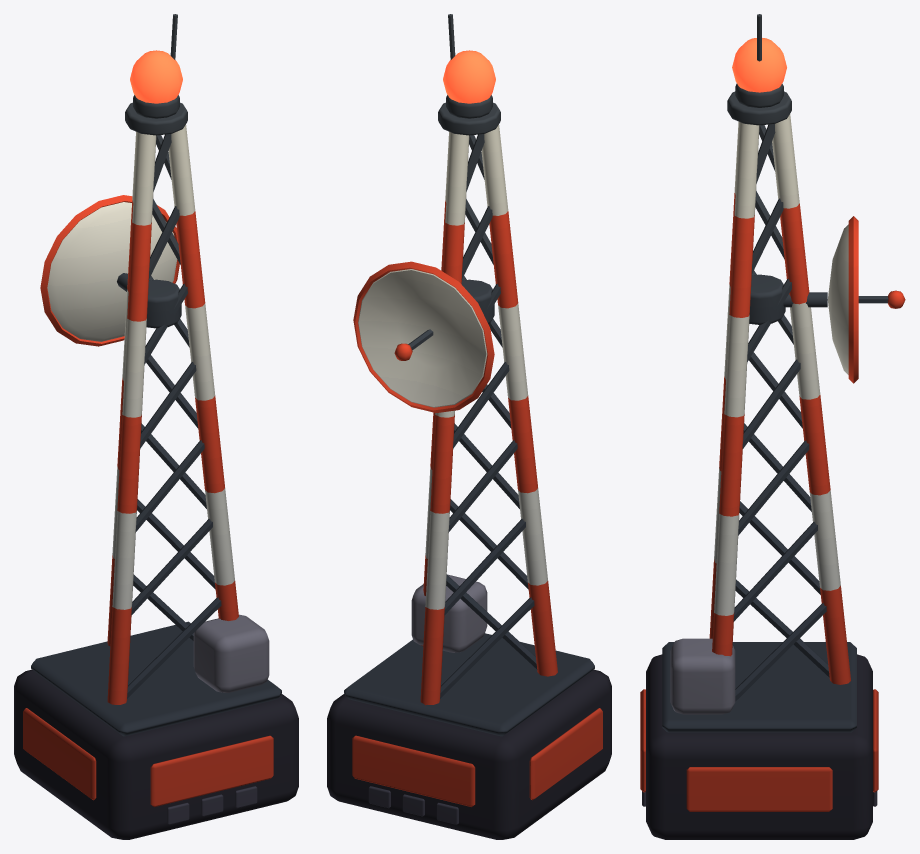
Rendered from relay-mast.glb.
3 renders of one model, left to right at view 1: azimuth 30°, elevation 25°; view 2: azimuth 150°, elevation 25°; view 3: azimuth 270°, elevation 25°, orthographic. The views are drawn at different scales.
Parts seen in each view (by area): view 1: relay-mast Gunmetal, relay-mast Ashen charcoal, relay-mast Ember paint, relay-mast Warm white, relay-mast Dish Warm white, relay-mast Ash grey, relay-mast Beacon Beacon light, relay-mast Dish Ember paint, relay-mast Dish Gunmetal, relay-mast Ashen slate, relay-mast Beacon Gunmetal; view 2: relay-mast Gunmetal, relay-mast Ashen charcoal, relay-mast Ember paint, relay-mast Dish Warm white, relay-mast Warm white, relay-mast Dish Ember paint, relay-mast Ash grey, relay-mast Beacon Beacon light, relay-mast Ashen slate, relay-mast Dish Gunmetal, relay-mast Beacon Gunmetal; view 3: relay-mast Gunmetal, relay-mast Ashen charcoal, relay-mast Ember paint, relay-mast Warm white, relay-mast Ash grey, relay-mast Beacon Beacon light, relay-mast Dish Warm white, relay-mast Dish Gunmetal, relay-mast Dish Ember paint, relay-mast Beacon Gunmetal.
Part boxes in pixels (x1,y1,x2,y2): relay-mast Gunmetal: (31,14,281,736); relay-mast Ashen charcoal: (14,669,298,839); relay-mast Ember paint: (23,200,273,806); relay-mast Warm white: (112,124,234,609); relay-mast Dish Warm white: (47,202,177,341); relay-mast Ash grey: (193,614,269,692); relay-mast Beacon Beacon light: (130,50,182,103); relay-mast Dish Ember paint: (40,195,179,346); relay-mast Dish Gunmetal: (117,273,181,328); relay-mast Ashen slate: (167,786,257,824); relay-mast Beacon Gunmetal: (133,95,179,118); relay-mast Gunmetal: (344,14,594,736); relay-mast Ashen charcoal: (327,669,611,839); relay-mast Ember paint: (352,200,602,806); relay-mast Dish Warm white: (358,269,487,407); relay-mast Warm white: (425,124,547,609); relay-mast Dish Ember paint: (353,261,494,412); relay-mast Ash grey: (411,574,487,652); relay-mast Beacon Beacon light: (443,50,495,103); relay-mast Ashen slate: (368,786,458,824); relay-mast Dish Gunmetal: (408,279,494,350); relay-mast Beacon Gunmetal: (446,95,492,118); relay-mast Gunmetal: (662,14,856,732); relay-mast Ashen charcoal: (646,654,872,839); relay-mast Ember paint: (640,193,878,811); relay-mast Warm white: (714,114,840,615); relay-mast Ash grey: (670,638,735,714); relay-mast Beacon Beacon light: (732,38,786,92); relay-mast Dish Warm white: (827,224,848,374); relay-mast Dish Gunmetal: (749,274,888,324); relay-mast Dish Ember paint: (848,216,905,383); relay-mast Beacon Gunmetal: (735,83,783,107).
Bounding box in the file's own units: 1.47 × 5.4 × 1.63.
7 materials, 6 textured.
